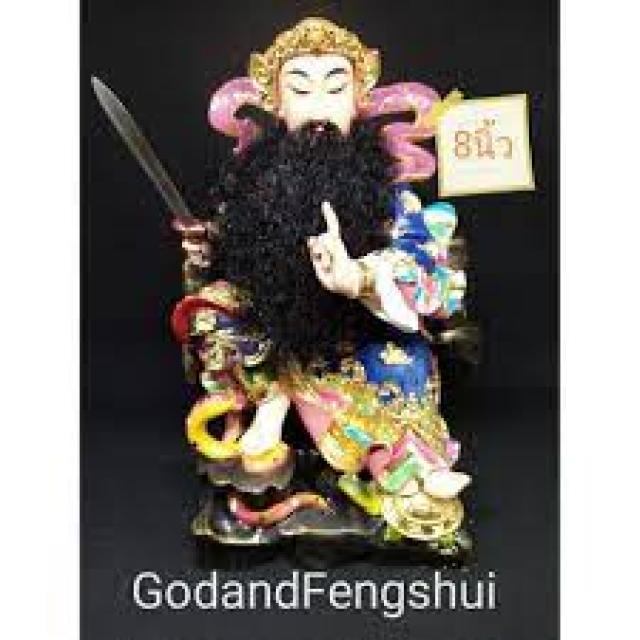Xuan wu: (164, 13, 470, 545)
